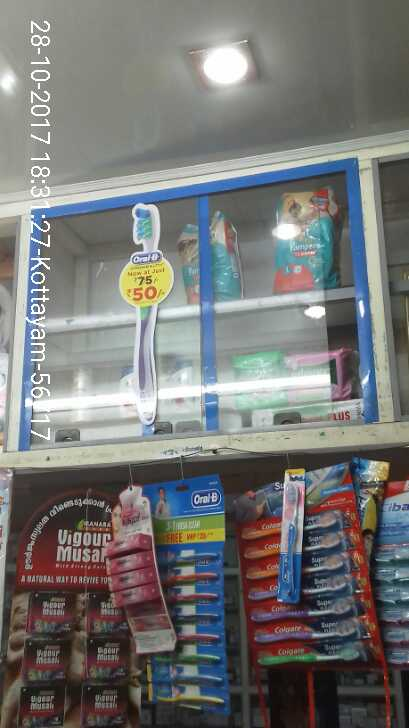oralcare: (151, 477, 229, 717)
